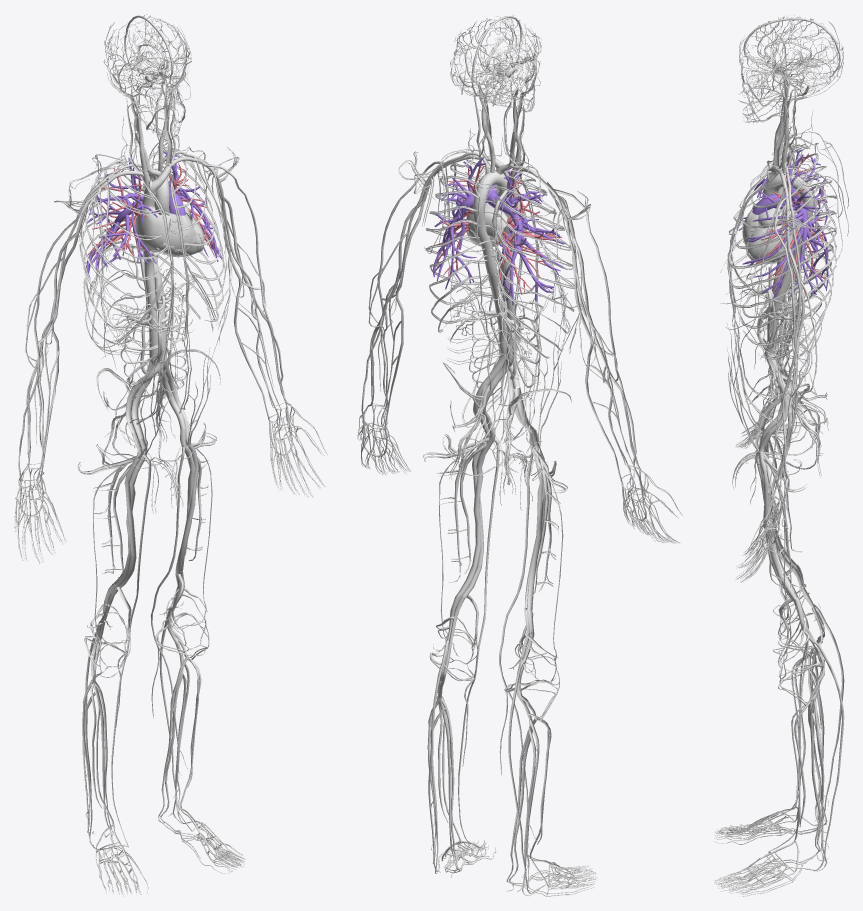
The model's file is body-cardio.glb.
3 views of the same model, side by side, from view 1: azimuth 30°, elevation 25°; view 2: azimuth 150°, elevation 25°; view 3: azimuth 270°, elevation 25° (orthographic). The views are drawn at different scales.
Visible parts, largest first — view 1: z01900, z01841, z01701, z01570, z01571, z01883, z01905, z01553, z01840, z01462, z01552, z01461 (+2 smaller); view 2: z01900, z01841, z01701, z01840, z01570, z01571, z01554, z01555, z01462, z02008, z01440, z01439 (+4 smaller); view 3: z01701, z01840, z01461, z01900, z01705, z01919, z01552, z01571, z01364, z01920, z01570, z01841 (+24 smaller).
Part boxes in pixels (x1,y1,x2,y2): z01900: (81,155,172,351); z01841: (79,163,169,354); z01701: (148,147,225,330); z01570: (150,446,192,831); z01571: (111,454,151,847); z01883: (135,205,170,254); z01905: (153,211,196,256); z01553: (117,432,142,588); z01840: (149,153,225,331); z01462: (18,188,101,487); z01552: (175,419,198,574); z01461: (202,162,289,422); z01900: (493,170,574,357); z01841: (478,187,574,358); z01701: (425,156,502,331); z01840: (425,177,501,332); z01570: (458,439,499,844); z01571: (499,447,539,859); z01554: (459,425,495,594); z01555: (527,432,544,610); z01462: (554,189,643,496); z02008: (472,196,497,275); z01440: (572,237,622,483); z01439: (385,202,424,426); z01701: (729,163,836,358); z01840: (729,175,836,359); z01461: (774,197,796,518); z01900: (729,144,836,304); z01705: (747,224,793,263); z01919: (803,640,844,871); z01552: (759,431,793,601); z01571: (755,431,820,820); z01364: (764,266,793,354); z01920: (803,604,844,826); z01570: (755,452,820,851); z01841: (729,153,836,308).
Bounding box in the file's own units: 0.685 × 1.75 × 0.2569.
